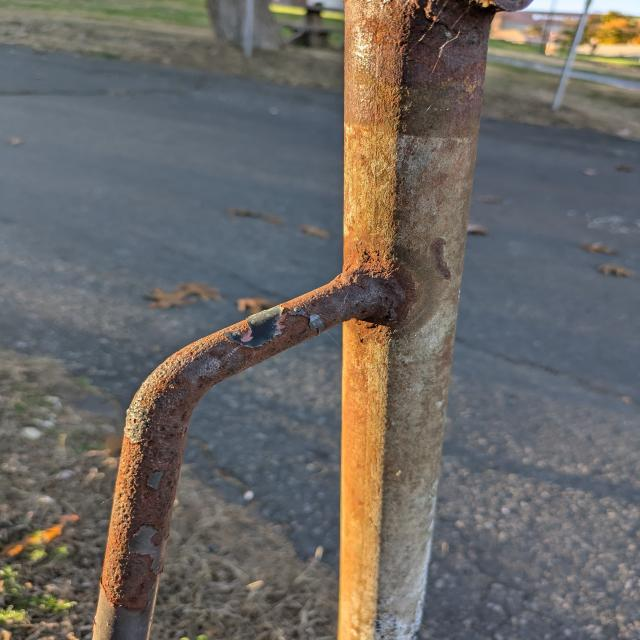Crevice Corrosion: (343, 231, 416, 329)
Filiform Corrosion: (94, 516, 170, 640), (141, 391, 189, 501), (225, 306, 289, 349), (290, 309, 326, 332), (160, 493, 175, 521)
Uniform Corrosion: (339, 1, 502, 640)
